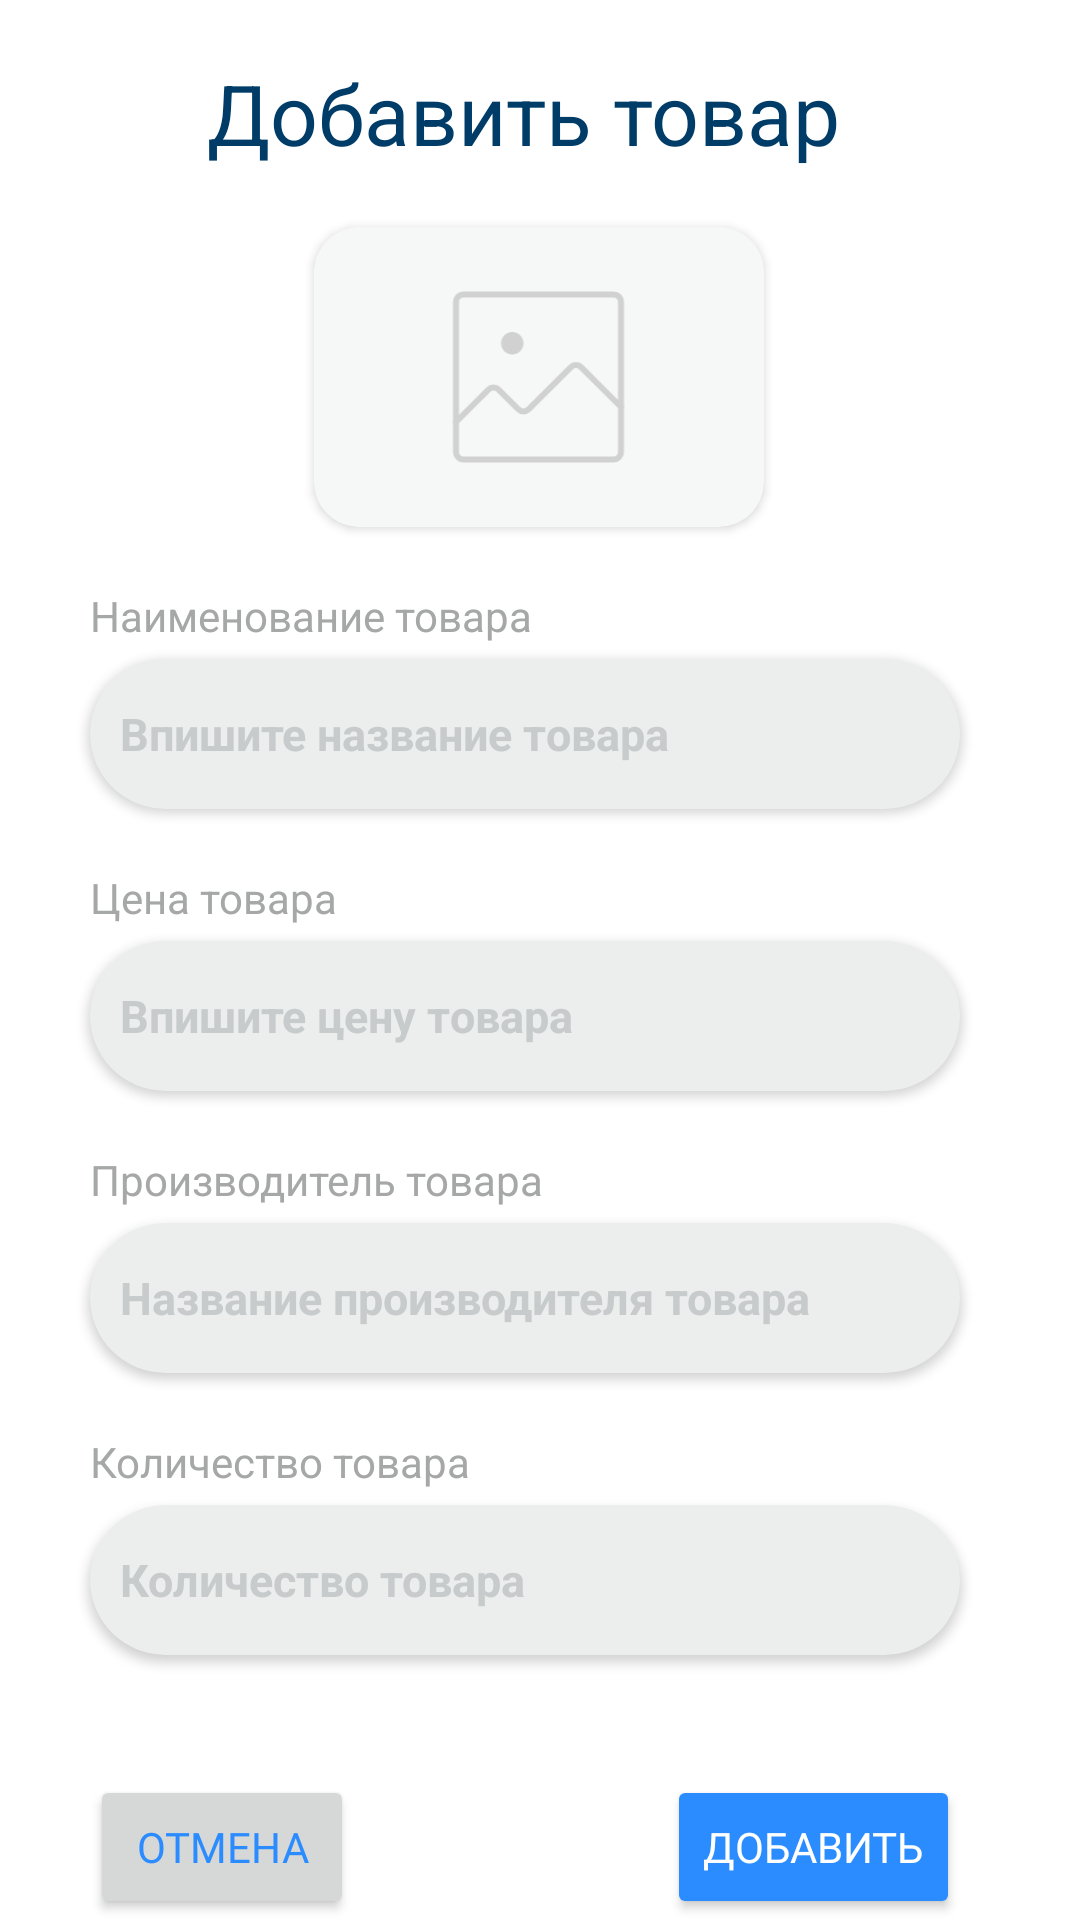

Locate icon controls on the screen. Image size 1080 × 1920, boxes as [x1, y1, x2, y2].
imagesquare: [453, 292, 624, 462]
